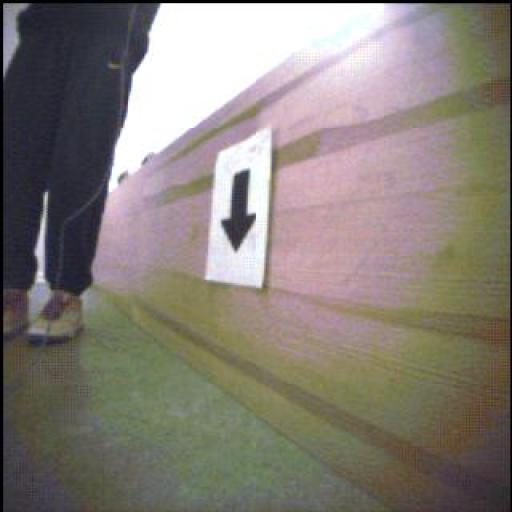arrow: (223, 171, 257, 252)
